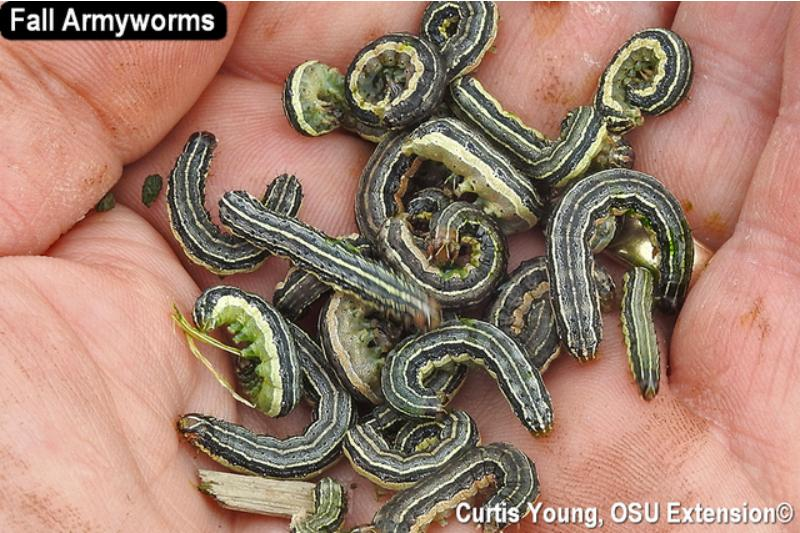fall-armyworm: (219, 191, 442, 332), (176, 319, 361, 480), (546, 169, 695, 364), (381, 319, 555, 439), (167, 132, 305, 279), (354, 98, 472, 268), (446, 76, 606, 189), (482, 255, 619, 385), (403, 117, 549, 238), (191, 286, 306, 419), (374, 442, 541, 533), (379, 202, 510, 310), (284, 61, 418, 150), (319, 279, 407, 412), (592, 27, 696, 135), (345, 410, 481, 492), (345, 34, 447, 131), (422, 1, 500, 86), (622, 267, 662, 402), (294, 477, 347, 533)
